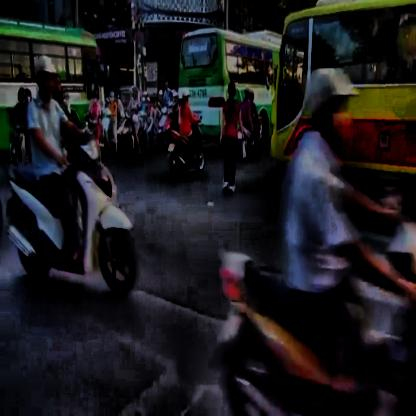not_wear: (227, 82, 238, 102)
wear: (34, 53, 58, 99), (180, 87, 194, 104)
